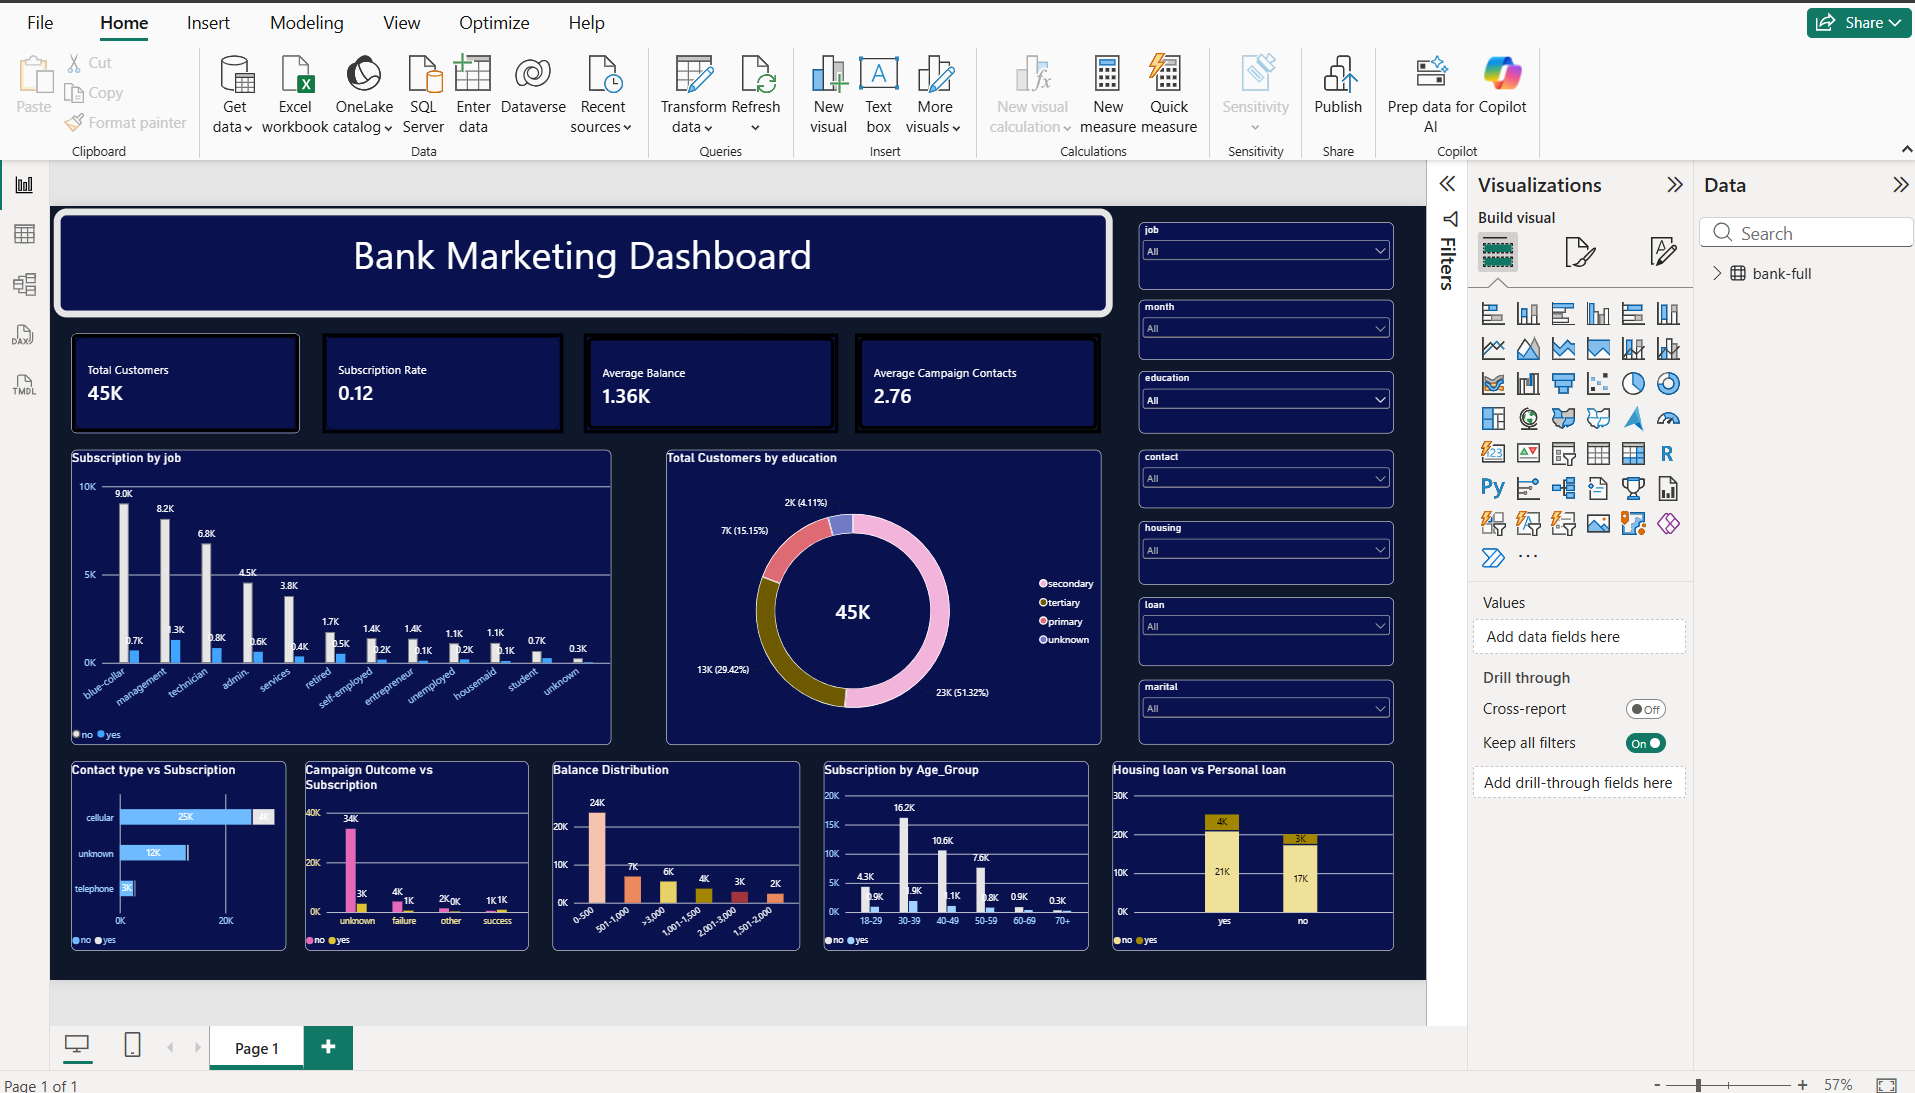

This screenshot's page, from the dashboard's own definition file:
{"tool":"powerbi","page":{"name":"Page 1","canvas":[1920,1080],"ordinal":0},"visuals":[{"type":"cardVisual","fields":{"Data":["bank-full.Total Customers"]},"box":[29.7,177.9,319.2,139.5],"z":0},{"type":"cardVisual","fields":{"Data":["bank-full.Average Balance"]},"box":[744.8,177.9,355.8,139.5],"z":1000},{"type":"cardVisual","fields":{"Data":["bank-full.Average Campaign Contacts"]},"box":[1123.3,177.9,343.6,139.5],"z":2000},{"type":"cardVisual","fields":{"Data":["bank-full.Subscription Rate"]},"box":[380.2,177.9,336.6,139.5],"z":3000},{"type":"clusteredColumnChart","title":"Subscription by job","fields":{"Category":["bank-full.job"],"Y":["bank-full.Total Customers"],"Series":["bank-full.y"]},"box":[29.7,340.1,753.5,411.6],"z":4000},{"type":"donutChart","fields":{"Category":["bank-full.education"],"Y":["bank-full.Total Customers"]},"box":[859.9,340.1,607,411.6],"z":5000},{"type":"columnChart","title":"Housing loan vs Personal loan","fields":{"Category":["bank-full.housing"],"Y":["bank-full.Total Customers"],"Series":["bank-full.loan"]},"box":[1482.6,774.4,392.4,265.1],"z":6000},{"type":"clusteredColumnChart","title":"Subscription by Age_Group","fields":{"Category":["bank-full.Age_Group"],"Y":["bank-full.Total Customers"],"Series":["bank-full.y"]},"box":[1079.7,774.4,369.8,265.1],"z":7000},{"type":"clusteredColumnChart","title":"Balance Distribution","fields":{"Category":["bank-full.Balance Range"],"Y":["bank-full.Total Customers"]},"box":[701.2,774.4,345.3,265.1],"z":8000},{"type":"barChart","title":"Contact type vs Subscription","fields":{"Category":["bank-full.contact"],"Y":["bank-full.Total Customers"],"Series":["bank-full.y"]},"box":[29.7,774.4,300,265.1],"z":9000},{"type":"clusteredColumnChart","title":"Campaign Outcome vs Subscription","fields":{"Category":["bank-full.poutcome"],"Y":["bank-full.Total Customers"],"Series":["bank-full.y"]},"box":[355.8,774.4,312.2,265.1],"z":10000},{"type":"slicer","fields":{"Values":["bank-full.job"]},"box":[1519.2,22.7,355.8,94.2],"z":11000},{"type":"slicer","fields":{"Values":["bank-full.marital"]},"box":[1519.2,661,355.8,90.7],"z":12000},{"type":"slicer","fields":{"Values":["bank-full.education"]},"box":[1519.2,230.2,355.8,87.2],"z":13000},{"type":"slicer","fields":{"Values":["bank-full.housing"]},"box":[1519.2,439.5,355.8,89],"z":14000},{"type":"slicer","fields":{"Values":["bank-full.loan"]},"box":[1519.2,545.9,355.8,95.9],"z":15000},{"type":"slicer","fields":{"Values":["bank-full.contact"]},"box":[1519.2,340.1,355.8,82],"z":16000},{"type":"slicer","fields":{"Values":["bank-full.month"]},"box":[1519.2,130.8,355.8,83.7],"z":17000},{"type":"textbox","box":[5.2,3.5,1477.3,151.7],"z":19000}]}

Visuals, with their boxes on the page's 1920x1080 design canvas (x1, y1, x2, y2). These are canvas units, not pixel positions in the 1915x1093 screenshot, which may show the page scaled, cropped or inside an application window:
cardVisual - bank-full.Total Customers: {"left": 30, "top": 178, "right": 349, "bottom": 317}
cardVisual - bank-full.Average Balance: {"left": 745, "top": 178, "right": 1101, "bottom": 317}
cardVisual - bank-full.Average Campaign Contacts: {"left": 1123, "top": 178, "right": 1467, "bottom": 317}
cardVisual - bank-full.Subscription Rate: {"left": 380, "top": 178, "right": 717, "bottom": 317}
"Subscription by job" clusteredColumnChart: {"left": 30, "top": 340, "right": 783, "bottom": 752}
donutChart - bank-full.education x bank-full.Total Customers: {"left": 860, "top": 340, "right": 1467, "bottom": 752}
"Housing loan vs Personal loan" columnChart: {"left": 1483, "top": 774, "right": 1875, "bottom": 1040}
"Subscription by Age_Group" clusteredColumnChart: {"left": 1080, "top": 774, "right": 1450, "bottom": 1040}
"Balance Distribution" clusteredColumnChart: {"left": 701, "top": 774, "right": 1046, "bottom": 1040}
"Contact type vs Subscription" barChart: {"left": 30, "top": 774, "right": 330, "bottom": 1040}
"Campaign Outcome vs Subscription" clusteredColumnChart: {"left": 356, "top": 774, "right": 668, "bottom": 1040}
slicer - bank-full.job: {"left": 1519, "top": 23, "right": 1875, "bottom": 117}
slicer - bank-full.marital: {"left": 1519, "top": 661, "right": 1875, "bottom": 752}
slicer - bank-full.education: {"left": 1519, "top": 230, "right": 1875, "bottom": 317}
slicer - bank-full.housing: {"left": 1519, "top": 440, "right": 1875, "bottom": 528}
slicer - bank-full.loan: {"left": 1519, "top": 546, "right": 1875, "bottom": 642}
slicer - bank-full.contact: {"left": 1519, "top": 340, "right": 1875, "bottom": 422}
slicer - bank-full.month: {"left": 1519, "top": 131, "right": 1875, "bottom": 214}
textbox: {"left": 5, "top": 4, "right": 1482, "bottom": 155}
